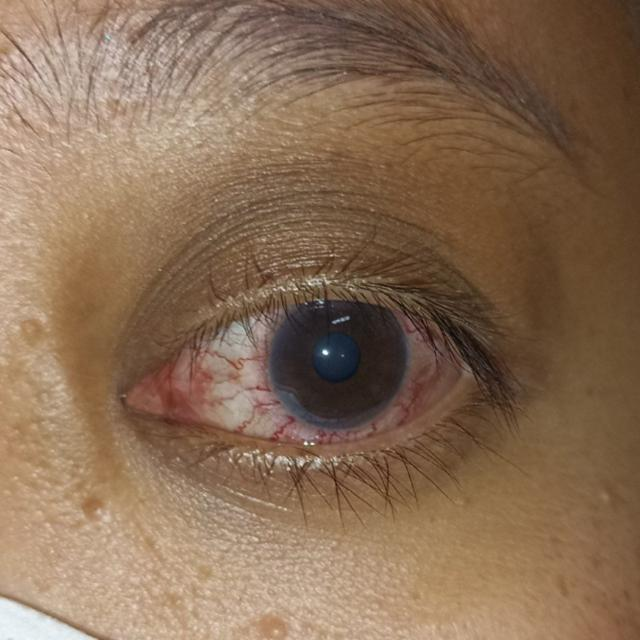Normal: (268, 285, 416, 432)
